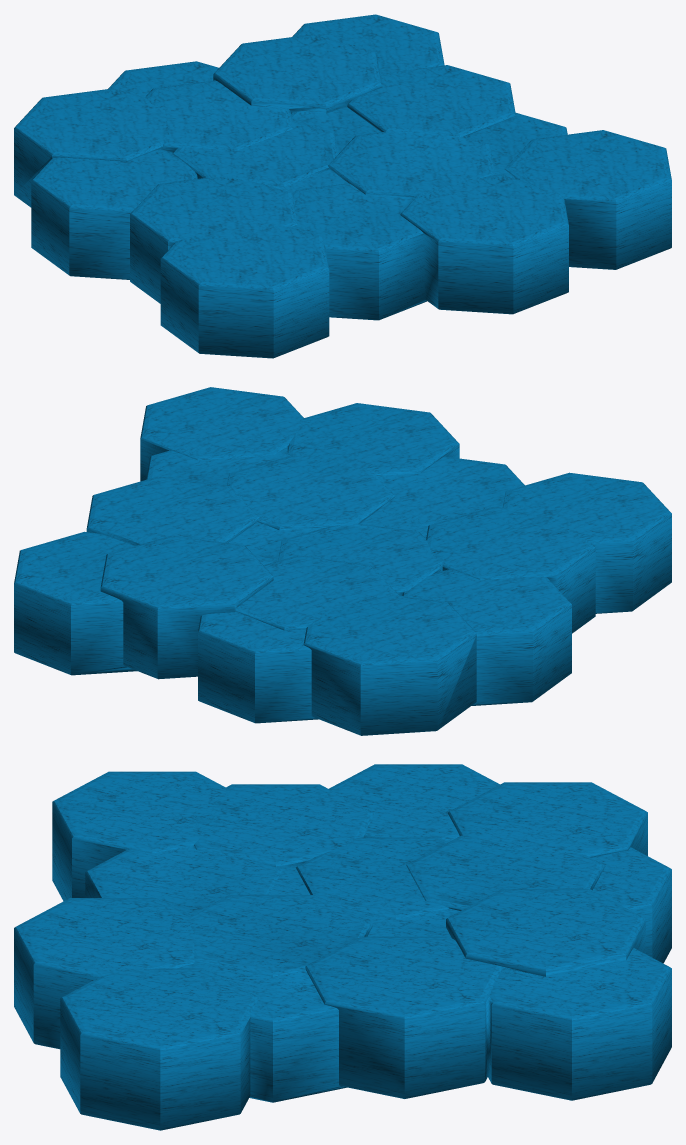
The model's file is PlataformaSaltoSimple.FBX.
3 views of the same model, one above another, from view 1: azimuth 30°, elevation 25°; view 2: azimuth 150°, elevation 25°; view 3: azimuth 270°, elevation 25° (orthographic). The views are drawn at different scales.
Visible parts, largest first — view 1: PlataformaSimple; view 2: PlataformaSimple; view 3: PlataformaSimple.
Part boxes in pixels (x1,y1,x2,y2): PlataformaSimple: [14, 14, 671, 358]; PlataformaSimple: [14, 387, 671, 735]; PlataformaSimple: [14, 764, 671, 1130].
Bounding box in the file's own units: 2005 × 1923 × 308.
1 material, 1 textured.
